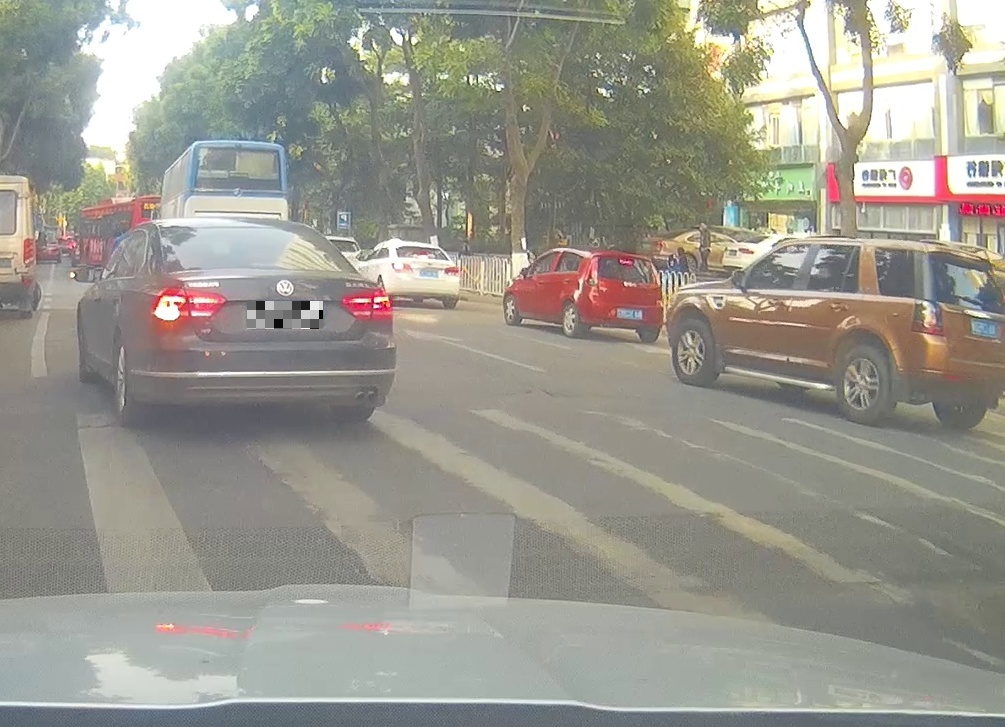L_light: (150, 286, 226, 326), (587, 270, 600, 285)
R_light: (341, 288, 394, 323), (651, 272, 662, 286)
T_light: (248, 261, 284, 268), (618, 259, 634, 265)
day-brake: (585, 249, 665, 344)
day-left: (150, 218, 396, 423)
plate_1: (247, 301, 323, 329)
